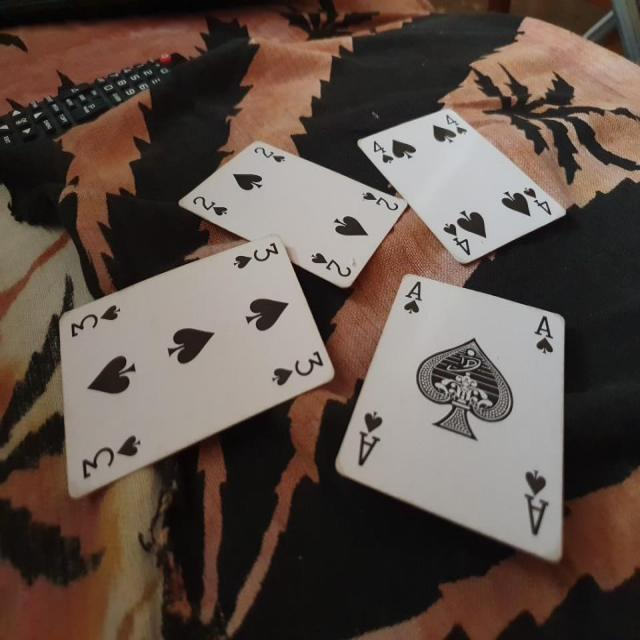2 Spades: (175, 139, 409, 293)
3 Spades: (53, 234, 335, 506)
4 Spades: (345, 102, 577, 276)
A Spades: (330, 268, 573, 574)
